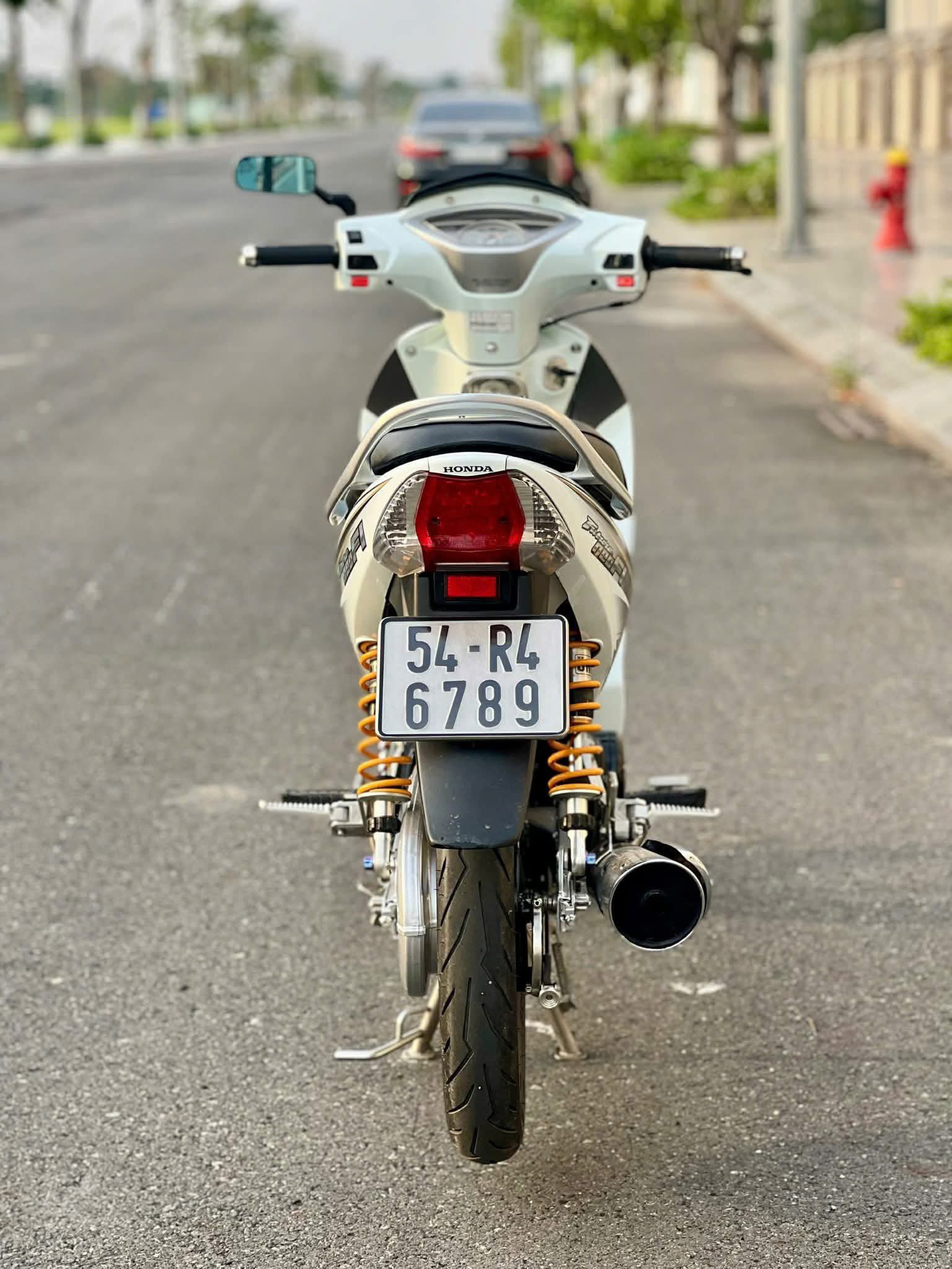bien_so: (370, 609, 580, 747)
